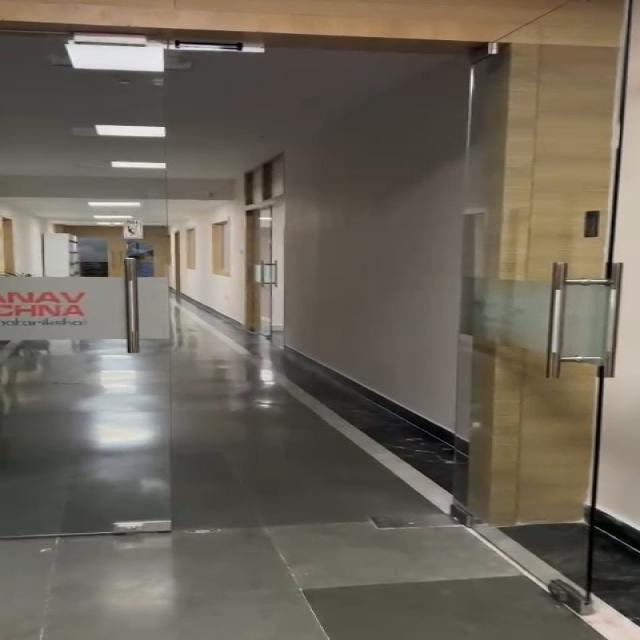door: (411, 17, 640, 581), (0, 14, 189, 545), (222, 174, 306, 353)
floor: (192, 379, 424, 640)
